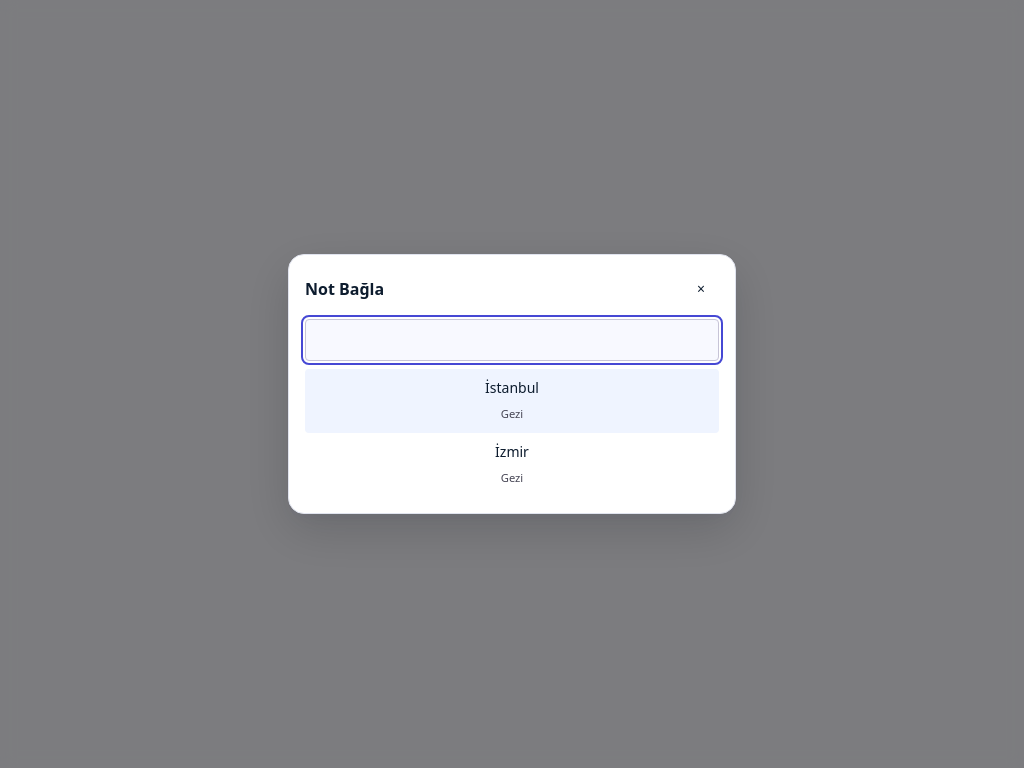
Test: NotePicker › filters Turkish titles and excludes the current note
In the field named "Not ara": [512, 340] box [305, 319, 719, 361], type "istanbul"
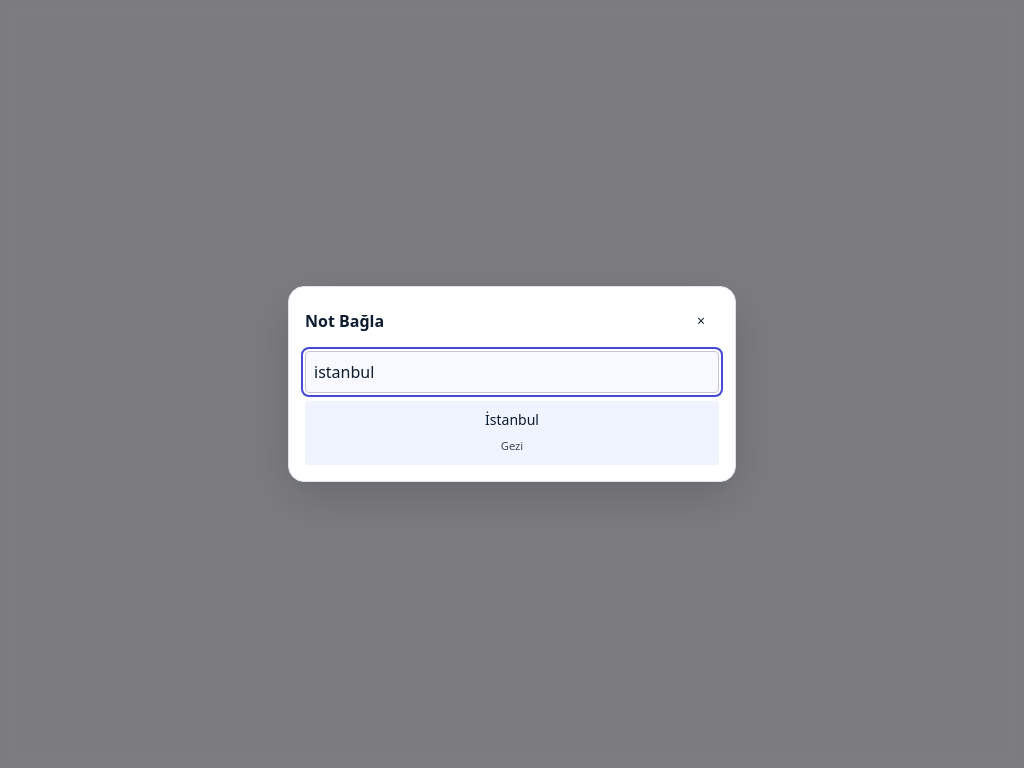
expect the text "İstanbul" is shown: met, box [485, 410, 539, 430]
expect the option "İzmir" is gone: met
